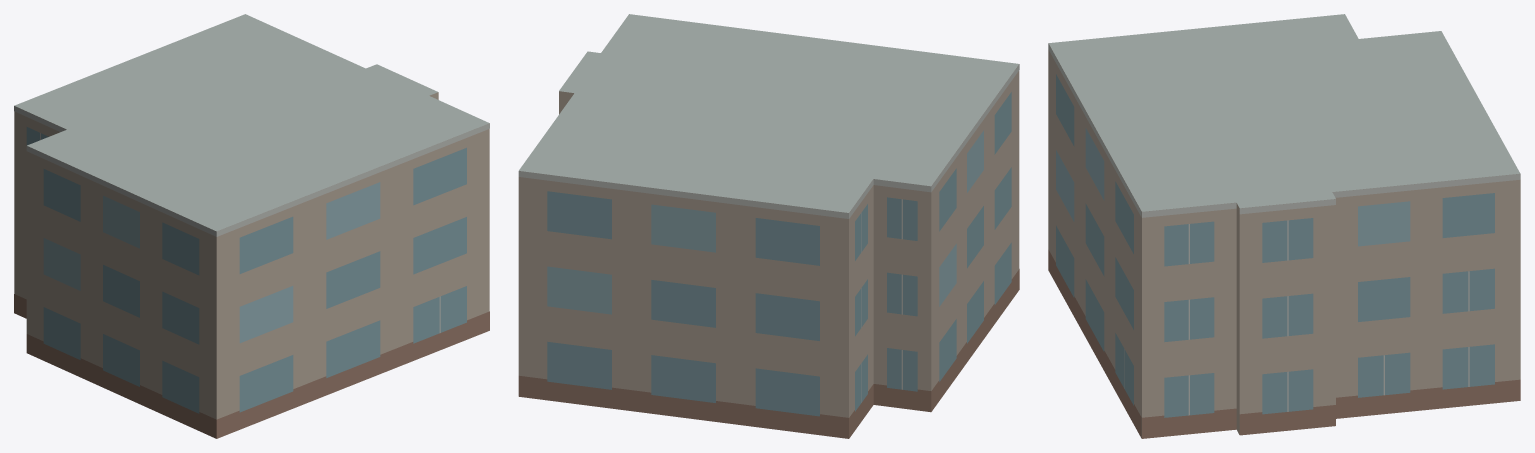
The model's file is survey-upis-33015997.glb.
3 renders of one model, left to right at view 1: azimuth 30°, elevation 25°; view 2: azimuth 150°, elevation 25°; view 3: azimuth 270°, elevation 25°, orthographic. The views are drawn at different scales.
Parts seen in each view (by area): view 1: survey-upis-33015997.tmp; view 2: survey-upis-33015997.tmp; view 3: survey-upis-33015997.tmp.
Boxes of the visible parts, x1,y1,x2,y2 form: survey-upis-33015997.tmp: (14, 14, 489, 438); survey-upis-33015997.tmp: (518, 14, 1019, 438); survey-upis-33015997.tmp: (1048, 14, 1520, 438).
Size of the model in its own units: 17.11 by 9.15 by 17.25.
